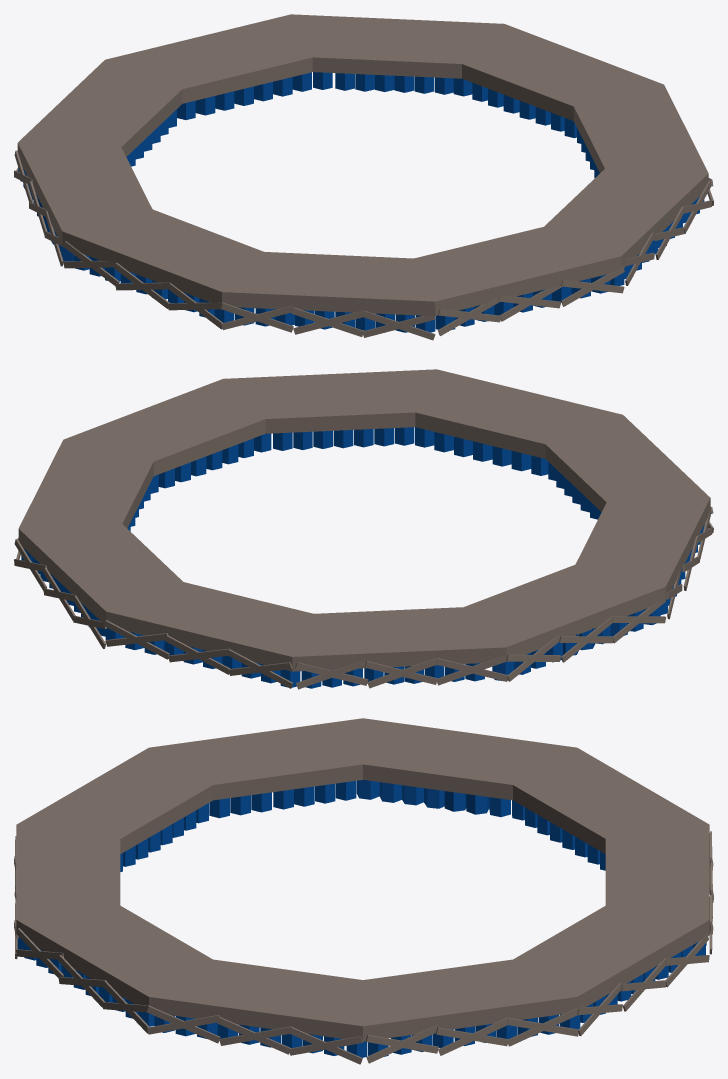
3 views of the same model, one above another, from view 1: azimuth 30°, elevation 25°; view 2: azimuth 150°, elevation 25°; view 3: azimuth 270°, elevation 25° (orthographic). The views are drawn at different scales.
Parts seen in each view (by area): view 1: pPipe3; view 2: pPipe3; view 3: pPipe3.
Part boxes in pixels (<box>): pPipe3: <box>14,14,713,340</box>; pPipe3: <box>14,369,713,689</box>; pPipe3: <box>14,718,713,1064</box>.
Size of the model in its own units: 18.89 by 1.16 by 18.02.
